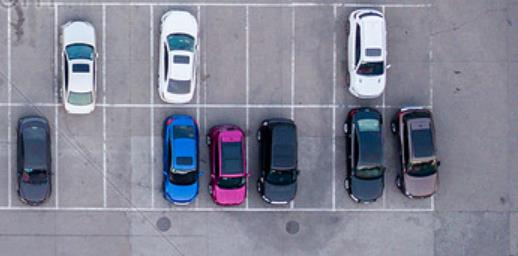car: (390, 106, 441, 201), (342, 5, 392, 100), (53, 17, 99, 116), (341, 106, 387, 204), (156, 6, 201, 106), (256, 116, 300, 207), (205, 121, 251, 208), (161, 113, 204, 203), (12, 114, 52, 208)
